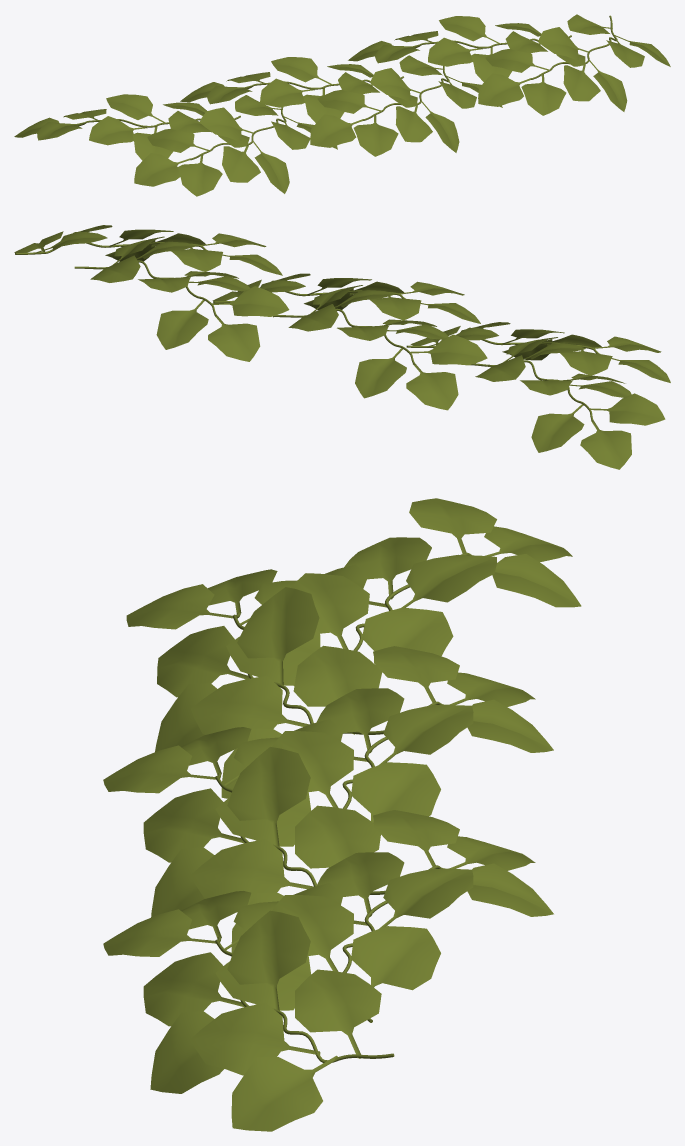
File: Ivy-Long-.fbx
3 renders of one model, top to bottom at view 1: azimuth 30°, elevation 25°; view 2: azimuth 150°, elevation 25°; view 3: azimuth 270°, elevation 25°, orthographic. The views are drawn at different scales.
Visible parts, largest first — view 1: ivy-vineGroup.001, ivy-vineGroup.005, ivy-vineGroup.003, ivy-vineGroup, ivy-vineGroup.002, ivy-vineGroup.004; view 2: ivy-vineGroup, ivy-vineGroup.004, ivy-vineGroup.002, ivy-vineGroup.005, ivy-vineGroup.001, ivy-vineGroup.003; view 3: ivy-vineGroup.005, ivy-vineGroup.003, ivy-vineGroup.001, ivy-vineGroup.004, ivy-vineGroup.002, ivy-vineGroup.
Part boxes in pixels (bbox=[...]): ivy-vineGroup.001: bbox=[134, 95, 337, 196]; ivy-vineGroup.005: bbox=[478, 14, 670, 115]; ivy-vineGroup.003: bbox=[310, 55, 502, 156]; ivy-vineGroup: bbox=[14, 94, 249, 160]; ivy-vineGroup.002: bbox=[180, 57, 417, 122]; ivy-vineGroup.004: bbox=[348, 16, 585, 81]; ivy-vineGroup: bbox=[470, 337, 665, 469]; ivy-vineGroup.004: bbox=[74, 236, 289, 361]; ivy-vineGroup.002: bbox=[273, 285, 487, 410]; ivy-vineGroup.005: bbox=[14, 225, 282, 275]; ivy-vineGroup.001: bbox=[406, 322, 670, 382]; ivy-vineGroup.003: bbox=[212, 273, 480, 323]; ivy-vineGroup.005: bbox=[103, 891, 394, 1131]; ivy-vineGroup.003: bbox=[103, 727, 385, 952]; ivy-vineGroup.001: bbox=[126, 569, 384, 798]; ivy-vineGroup.004: bbox=[215, 810, 553, 1022]; ivy-vineGroup.002: bbox=[215, 646, 553, 846]; ivy-vineGroup: bbox=[226, 498, 581, 685].
Bounding box in the file's own units: 3.95 × 37.38 × 13.21.
